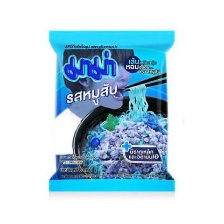snack: (42, 23, 180, 196)
